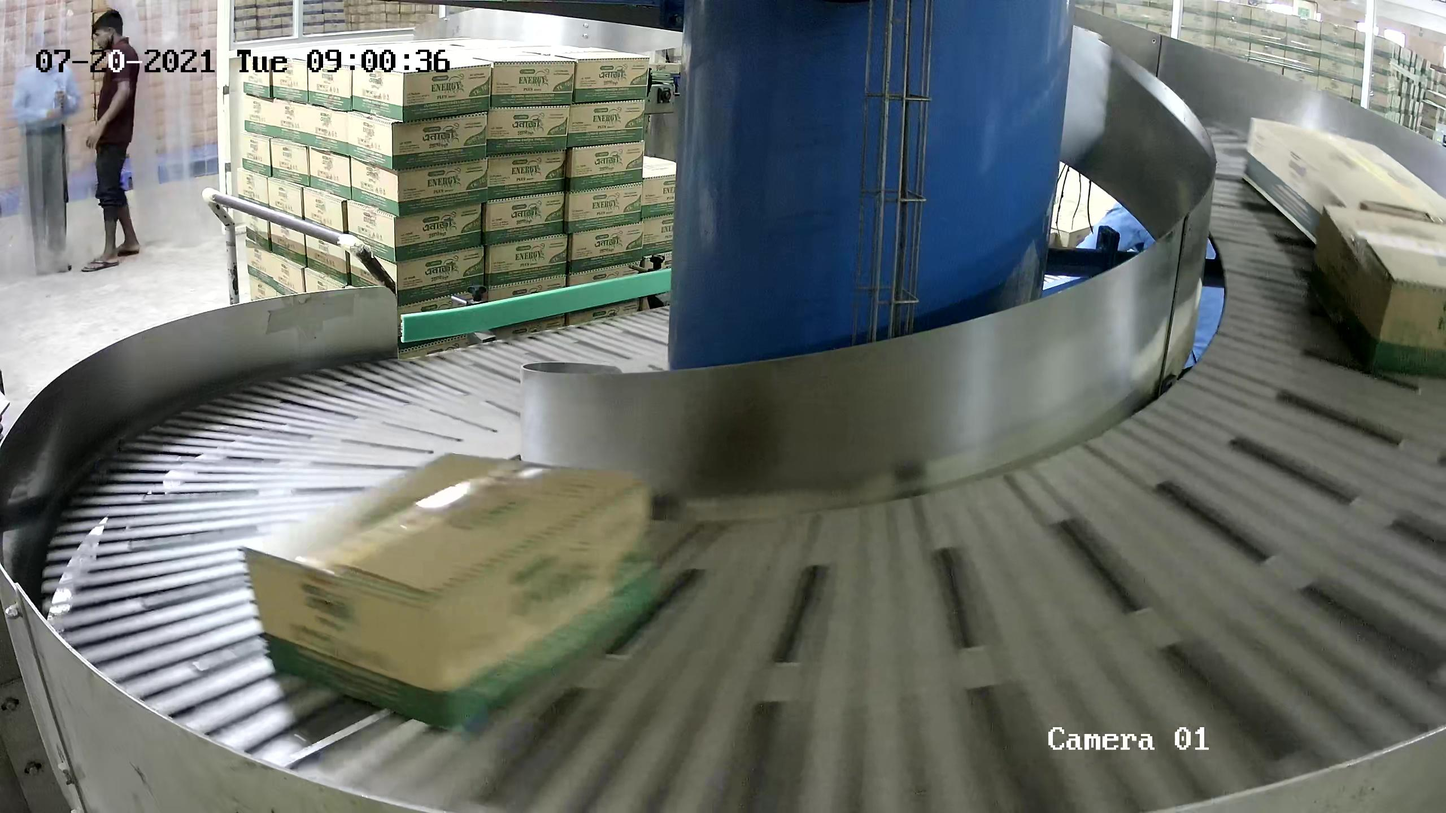Box: (237, 449, 664, 734), (1240, 115, 1446, 246), (1308, 203, 1446, 375)
